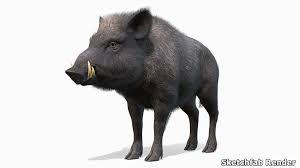boar: (67, 8, 219, 162)
